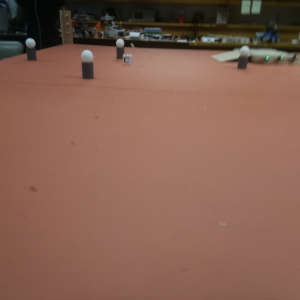blockC: (123, 55, 132, 62)
corner: (59, 10, 74, 46)
obstacle: (80, 50, 94, 80), (238, 47, 249, 71), (26, 39, 37, 61), (116, 38, 124, 58)
side: (253, 54, 300, 64)
slope: (214, 49, 244, 63)
